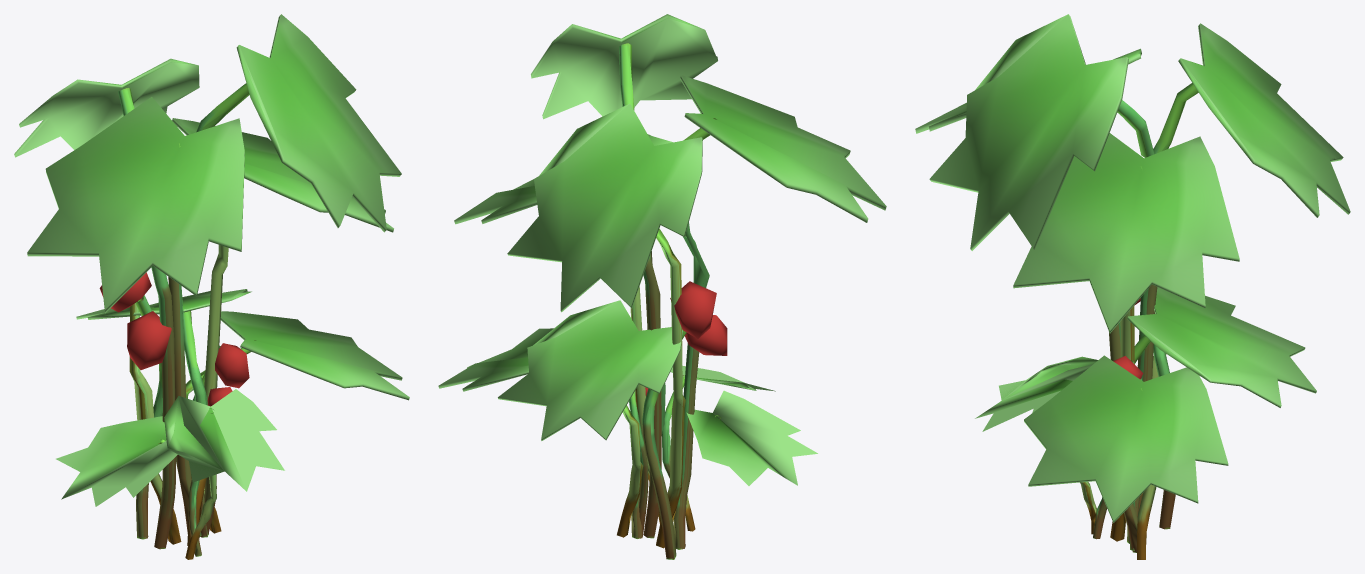
Rendered from strawberry-harvest.glb.
3 views of the same model, side by side, from view 1: azimuth 30°, elevation 25°; view 2: azimuth 150°, elevation 25°; view 3: azimuth 270°, elevation 25° (orthographic). The views are drawn at different scales.
Parts seen in each view (by area): view 1: Circle.004; view 2: Circle.004; view 3: Circle.004.
Boxes of the visible parts, bbox=[...] form: Circle.004: bbox=[14, 14, 409, 559]; Circle.004: bbox=[438, 14, 886, 559]; Circle.004: bbox=[915, 14, 1350, 559].
Size of the model in its own units: 1.22 by 1.53 by 1.12.
5 materials, 4 textured.
